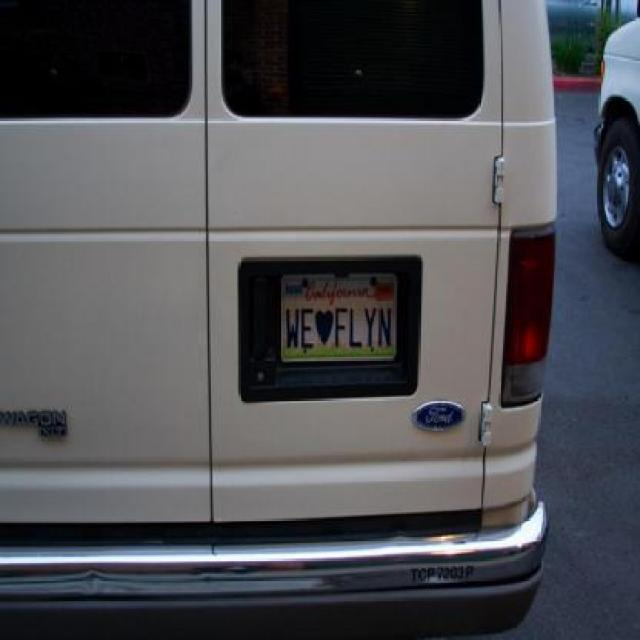License-Plates: (274, 264, 402, 370)
